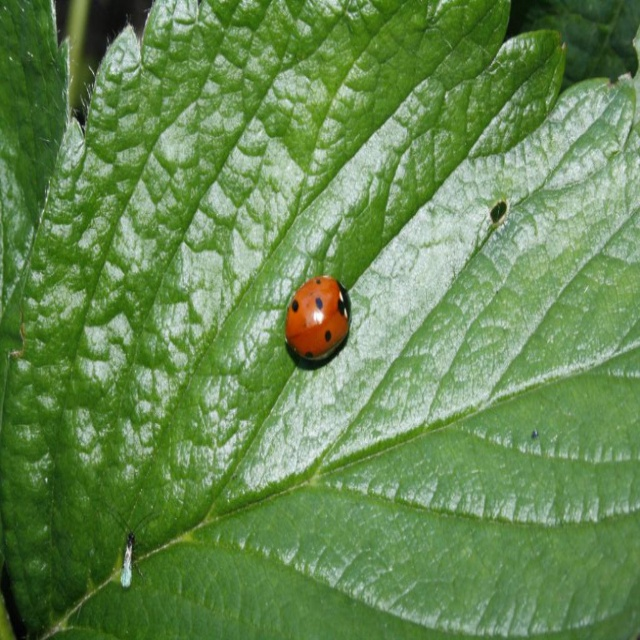Ladybug: (286, 276, 353, 363)
